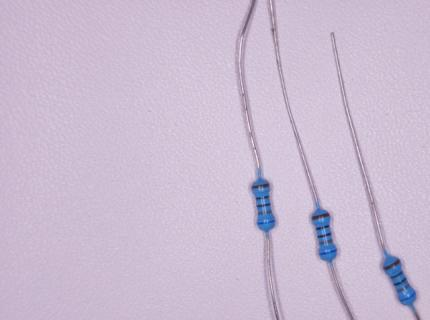Black band: (390, 270, 403, 279), (394, 277, 406, 286), (317, 232, 331, 238), (256, 195, 269, 200), (316, 225, 329, 230), (257, 203, 270, 207)
Blue band: (399, 291, 415, 301), (319, 249, 336, 256), (257, 219, 275, 225)
Brown band: (383, 258, 401, 270), (312, 212, 329, 220), (251, 184, 270, 189)
Grey band: (397, 283, 410, 293), (319, 239, 332, 246), (258, 210, 272, 215)
